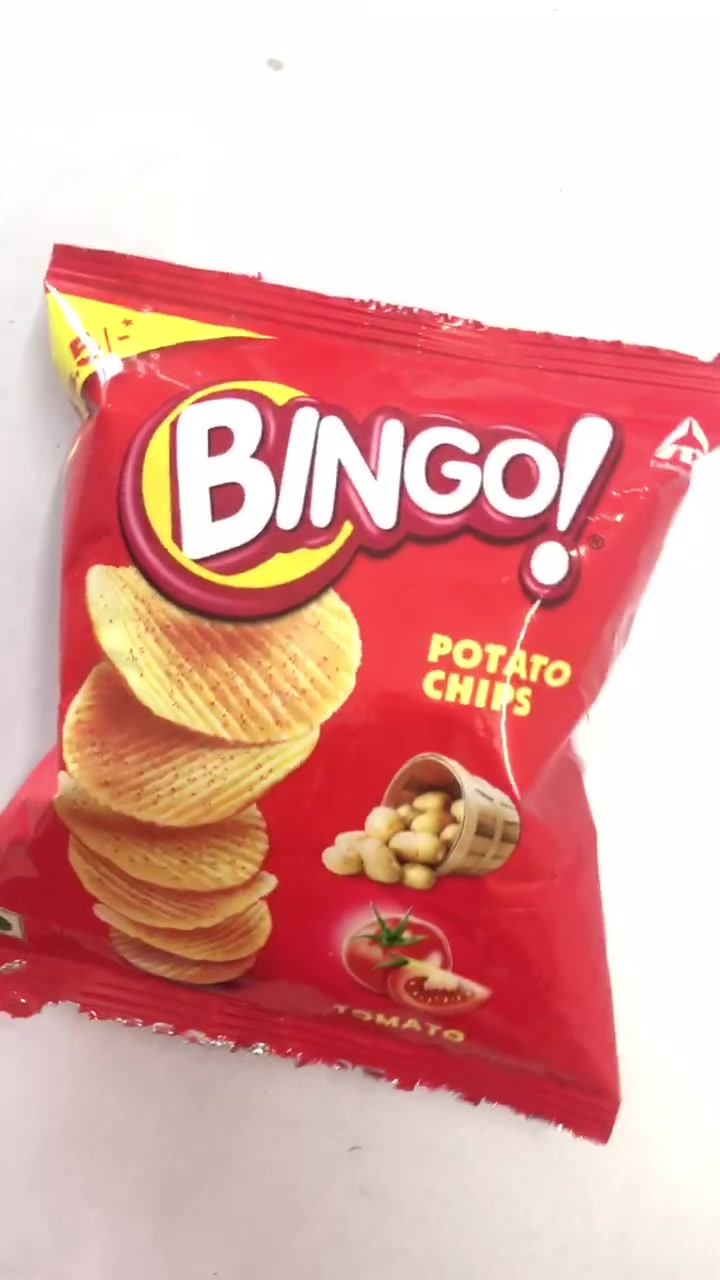Bingo: (14, 245, 720, 1130)
